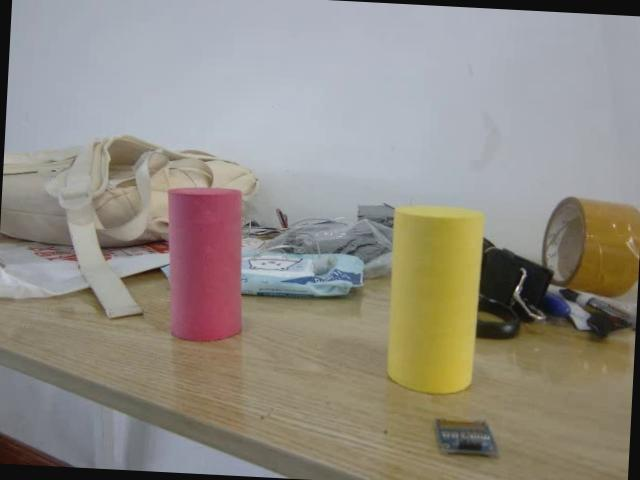red_cylinder: (156, 183, 260, 346)
yellow_cylinder: (384, 201, 486, 397)
